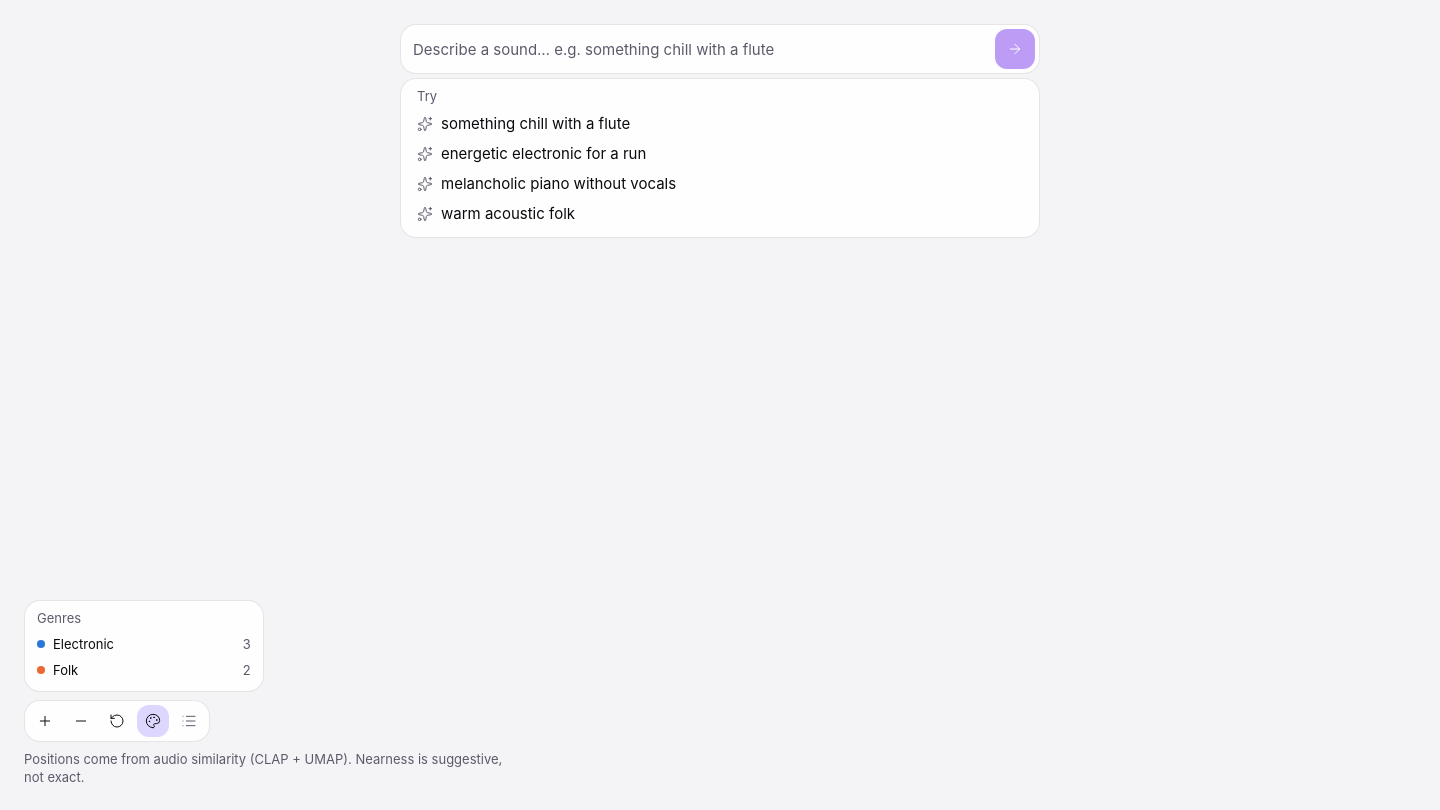
Test: details drawer › a track without audio says so
Type "chill flute" into the field named "Search by describing a sound".
click(700, 49); type("chill flute")  # box left=413, top=29, right=987, bottom=69
Then press Enter
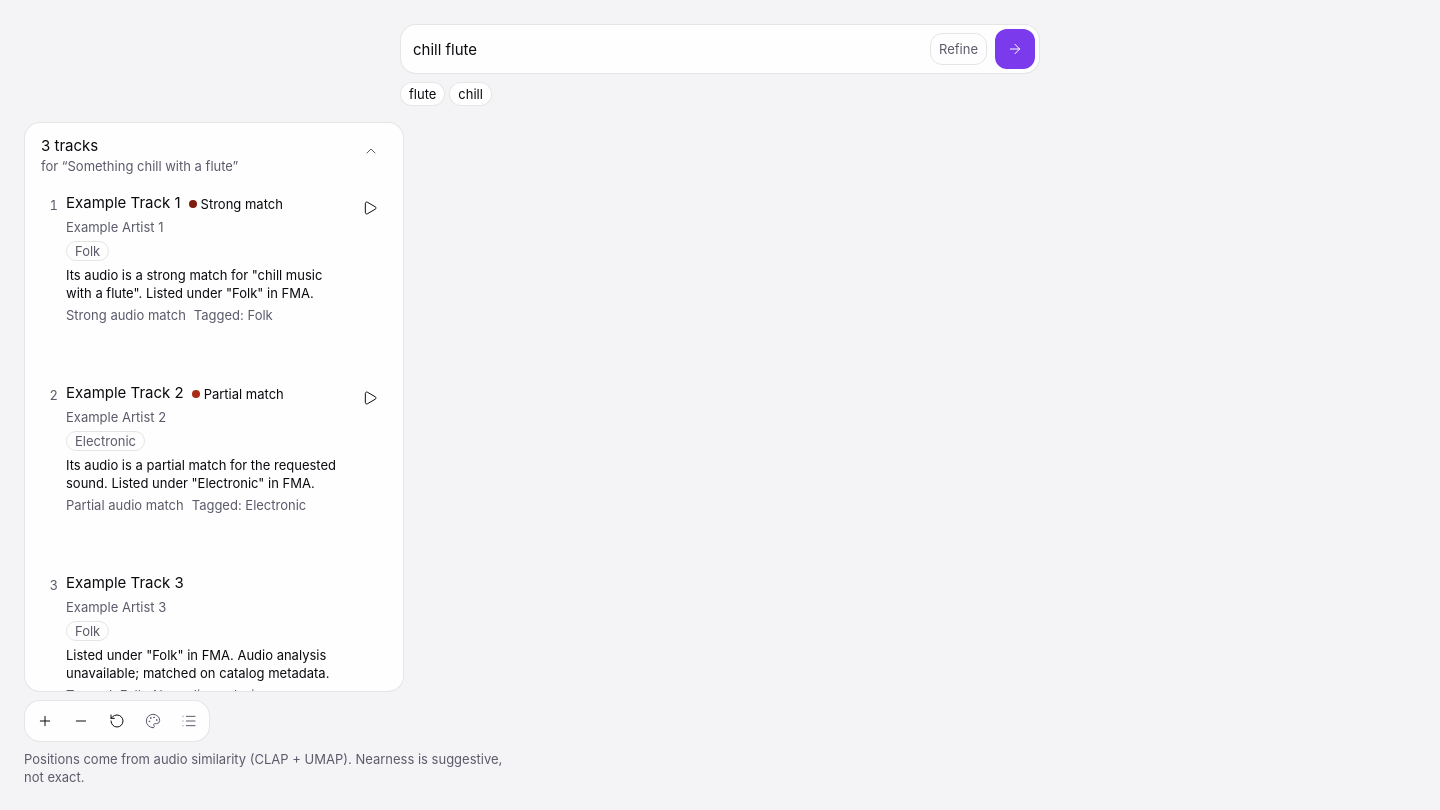
Click the button "Example Track 3".
click(125, 583)  # box left=66, top=572, right=184, bottom=594
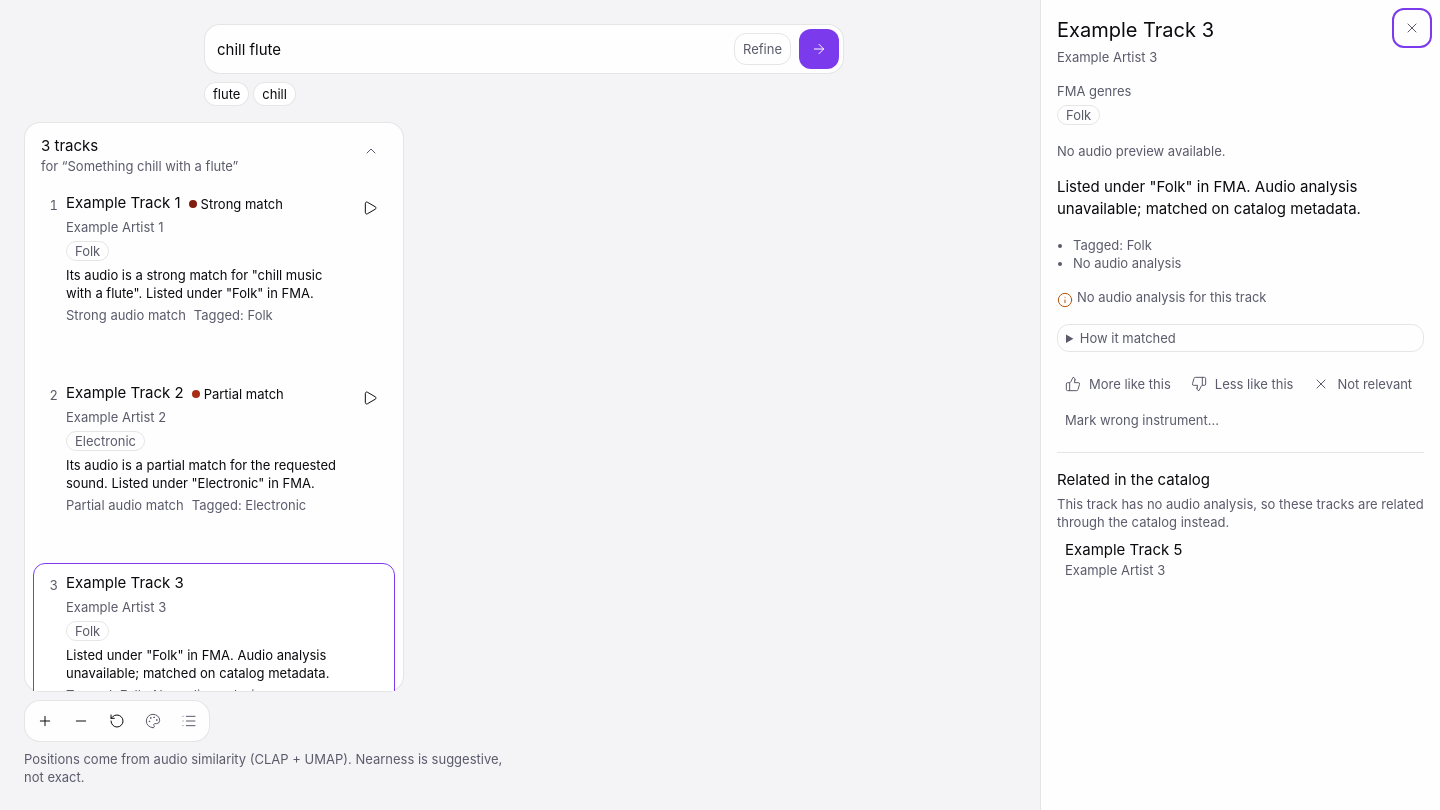
Expected: the text "No audio preview available." is shown, left=1057, top=143, right=1226, bottom=159
Expected: the text "No audio analysis for this track" is shown, left=1077, top=288, right=1266, bottom=306
